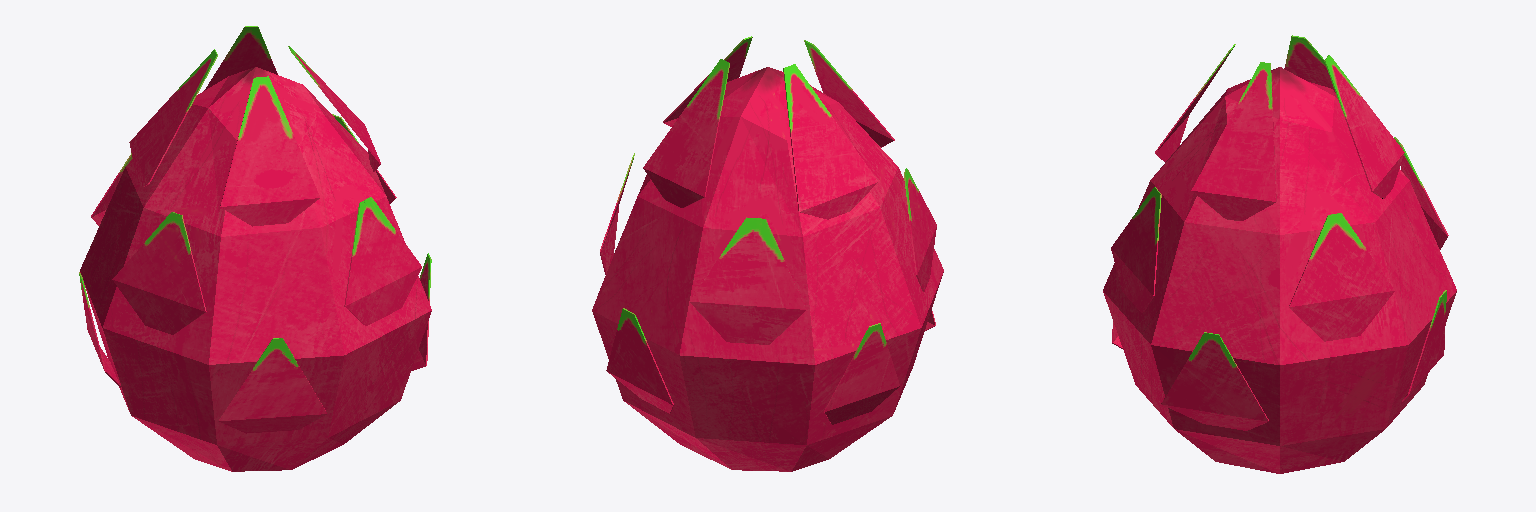
The picture shows the model from 3 angles: view 1: azimuth 30°, elevation 25°; view 2: azimuth 150°, elevation 25°; view 3: azimuth 270°, elevation 25°; orthographic projection.
Parts seen in each view (by area): view 1: dragonfruit_Cube.001; view 2: dragonfruit_Cube.001; view 3: dragonfruit_Cube.001.
Part boxes in pixels (left/top/right/bottom): dragonfruit_Cube.001: left=79, top=26, right=431, bottom=471; dragonfruit_Cube.001: left=592, top=36, right=943, bottom=471; dragonfruit_Cube.001: left=1103, top=35, right=1456, bottom=473.
Size of the model in its own units: 0.3866 by 0.5005 by 0.3866.
1 materials, 1 textured.